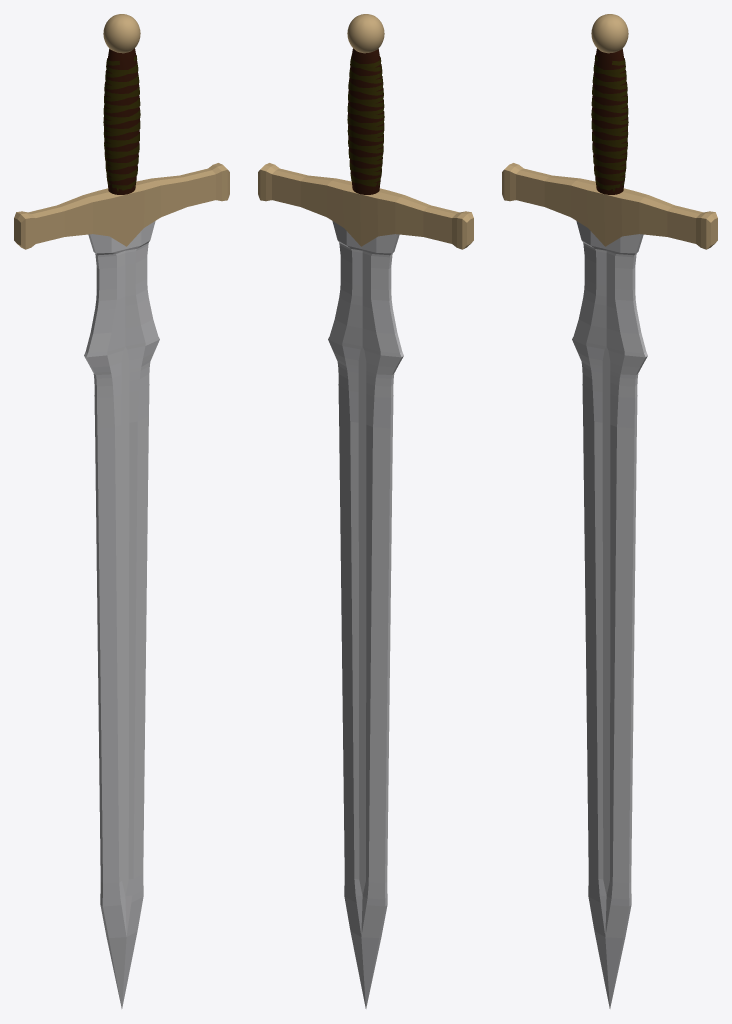
File: VR-Sword.fbx
3 views of the same model, side by side, from view 1: azimuth 30°, elevation 25°; view 2: azimuth 150°, elevation 25°; view 3: azimuth 330°, elevation 25° (orthographic).
Parts seen in each view (by area): view 1: Cube, Cube.001, BezierCurve.002, Cylinder, Sphere; view 2: Cube, Cube.001, BezierCurve.002, Cylinder, Sphere; view 3: Cube, Cube.001, BezierCurve.002, Cylinder, Sphere.
Boxes of the visible parts, left/top/right/bottom form: Cube: left=84, top=221, right=159, bottom=1008; Cube.001: left=14, top=163, right=229, bottom=249; BezierCurve.002: left=103, top=55, right=140, bottom=191; Cylinder: left=104, top=48, right=139, bottom=194; Sphere: left=103, top=14, right=140, bottom=53; Cube: left=328, top=221, right=403, bottom=1008; Cube.001: left=258, top=163, right=473, bottom=249; BezierCurve.002: left=347, top=56, right=384, bottom=186; Cylinder: left=348, top=48, right=383, bottom=194; Sphere: left=347, top=14, right=384, bottom=53; Cube: left=572, top=221, right=647, bottom=1008; Cube.001: left=502, top=163, right=717, bottom=249; BezierCurve.002: left=591, top=55, right=628, bottom=191; Cylinder: left=592, top=48, right=627, bottom=194; Sphere: left=591, top=14, right=628, bottom=53.
Size of the model in its own units: 137 by 624 by 21.16.
